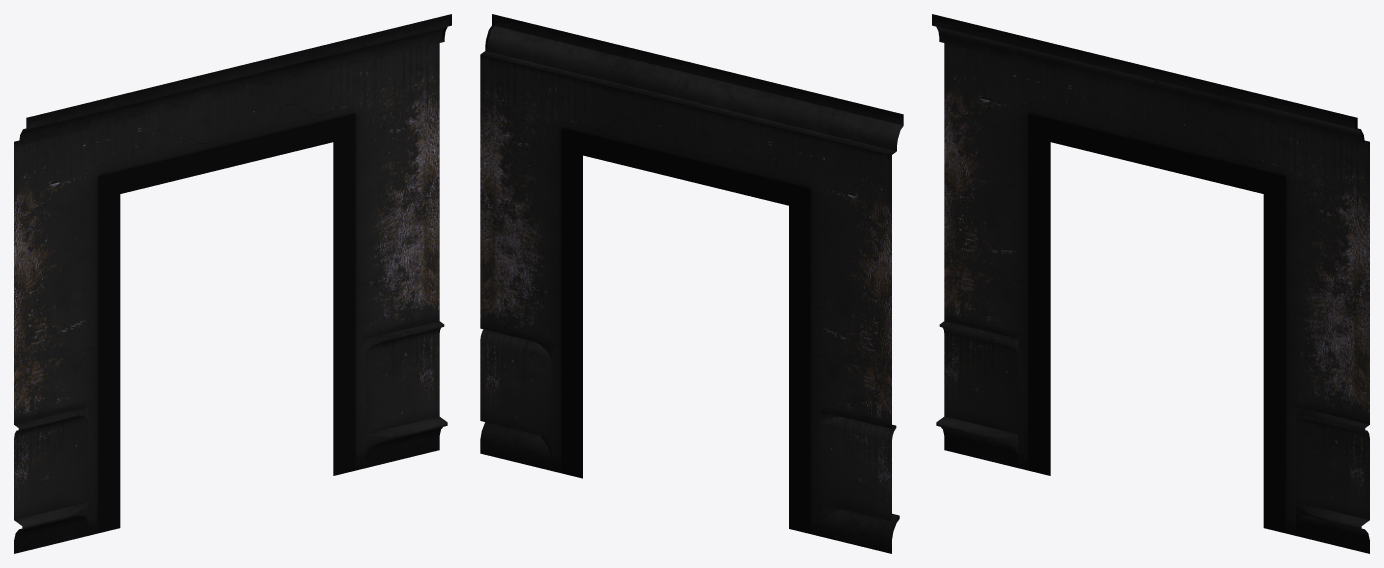
File: door_way_rotten.dae
3 views of the same model, side by side, from view 1: azimuth 30°, elevation 25°; view 2: azimuth 150°, elevation 25°; view 3: azimuth 330°, elevation 25° (orthographic). The views are drawn at different scales.
Parts seen in each view (by area): view 1: mansionbase_doorway; view 2: mansionbase_doorway; view 3: mansionbase_doorway.
Boxes of the visible parts, <box> form: mansionbase_doorway: <box>14,14,451,553</box>; mansionbase_doorway: <box>480,14,903,553</box>; mansionbase_doorway: <box>932,14,1369,553</box>.
Bounding box in the file's own units: 4 × 4 × 0.2011.
